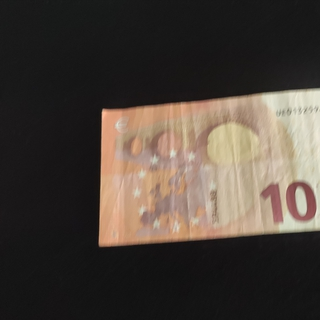10EUROBack: (97, 83, 320, 247)
